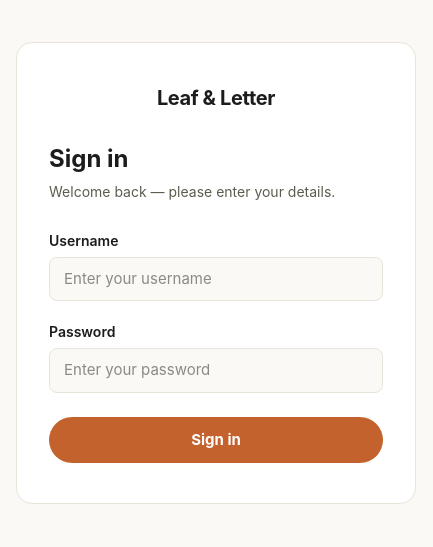
Test: Login page › shows validation error when username is too short
Type "ab" into the field labelled "Username" at (216, 279), box [49,257,383,301]
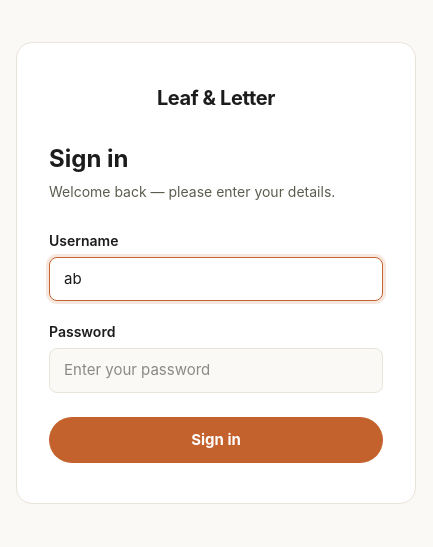
Click the button "Sign in" at (216, 440), box [49,417,383,463]
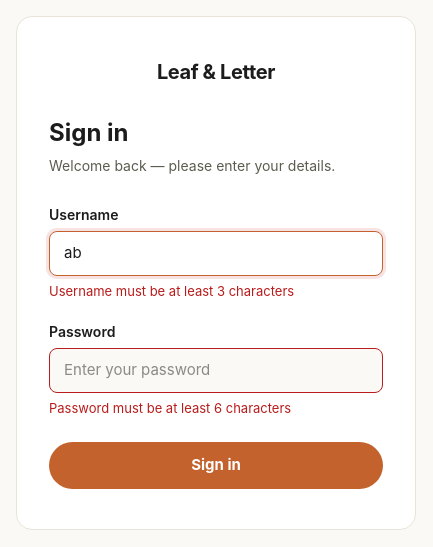
Expected: the text "Username must be at least 3 characters" is shown, [49,283,294,299]
